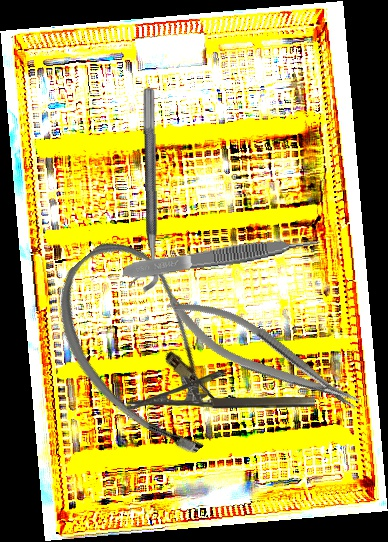Cannula: (26, 224, 267, 475)
Fixation Ring: (125, 88, 160, 294)
Needle Holder: (159, 280, 366, 430), (127, 371, 315, 409)
Tissue Forceps: (121, 233, 322, 282)
